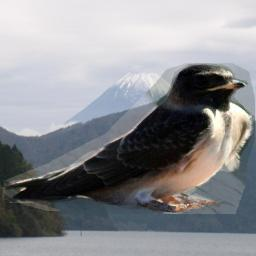Swallow: (0, 63, 255, 214)
